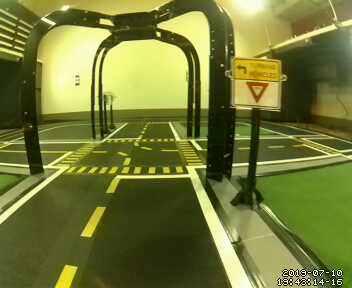Turn Yield: (231, 55, 283, 111)
